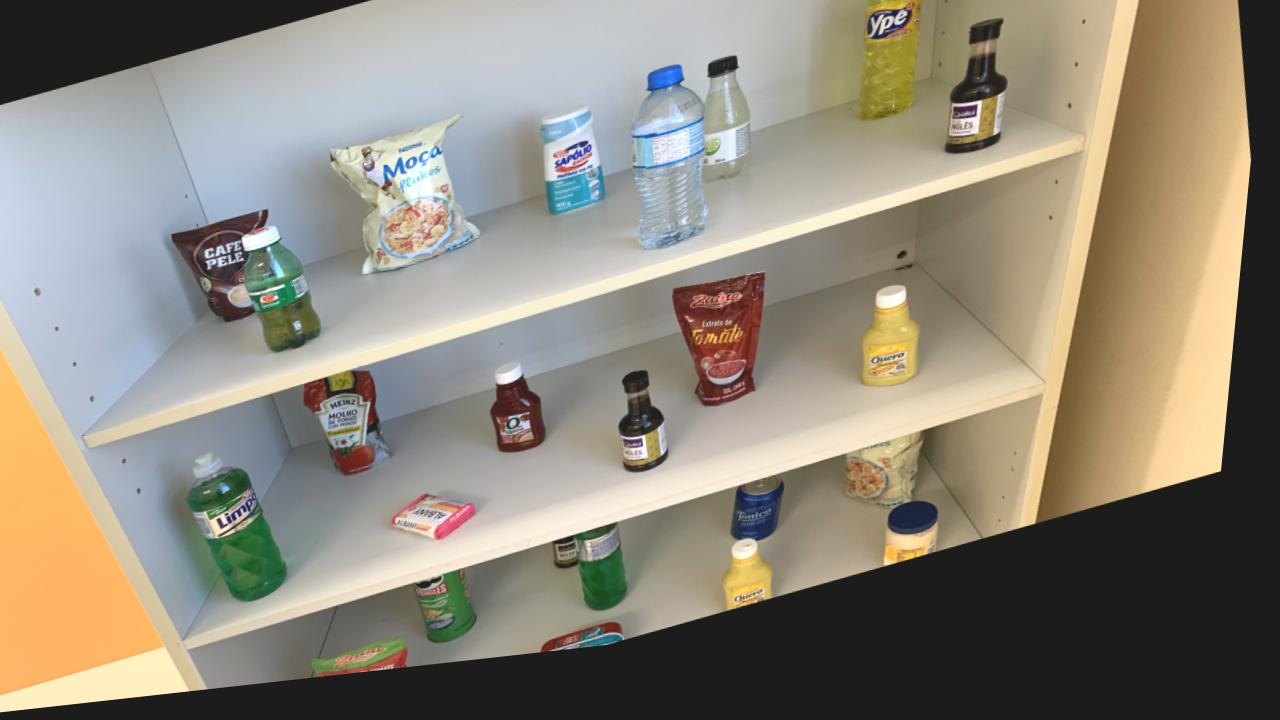Cleaner-Cleanup_Items: (543, 120, 611, 227)
Coffee-Pantry_Items: (176, 216, 274, 328)
Detergent-Cleanup_Items: (197, 459, 298, 608), (862, 0, 926, 141), (587, 538, 641, 626)
English_Sauce-Pantry_Items: (950, 41, 1011, 176), (629, 385, 679, 488), (564, 550, 591, 583)
Flakes-Snacks: (334, 125, 486, 283), (856, 453, 934, 531)
Guarana-Drinks: (248, 232, 329, 359)
Ketchup-Pantry_Items: (499, 374, 556, 465)
Mayonnaise-Pantry_Items: (897, 523, 952, 588)
Mustard-Pantry_Items: (870, 305, 928, 408), (735, 556, 786, 629)
Pringles-Snacks: (427, 581, 490, 654)
Soap-Cleanup_Items: (403, 505, 487, 551)
Soda-Drinks: (706, 72, 756, 199)
Tomato_Sauce-Pantry_Items: (680, 290, 772, 424), (311, 379, 401, 484), (325, 646, 422, 686)
Tonic-Drinks: (742, 494, 795, 558)
Tuna_Can-Pantry_Items: (555, 637, 638, 667)
Water_Bottle-Drinks: (634, 80, 713, 265)
